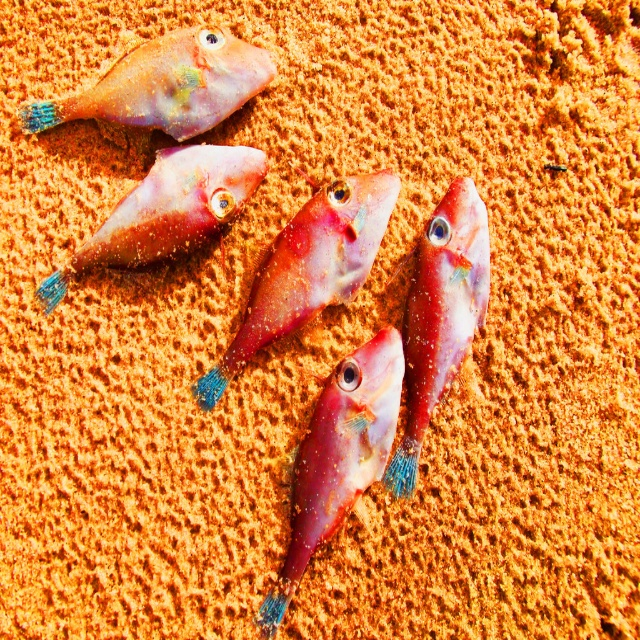Fish: (197, 172, 410, 422), (257, 319, 403, 628), (33, 139, 267, 316), (376, 191, 486, 535), (17, 21, 282, 135)
